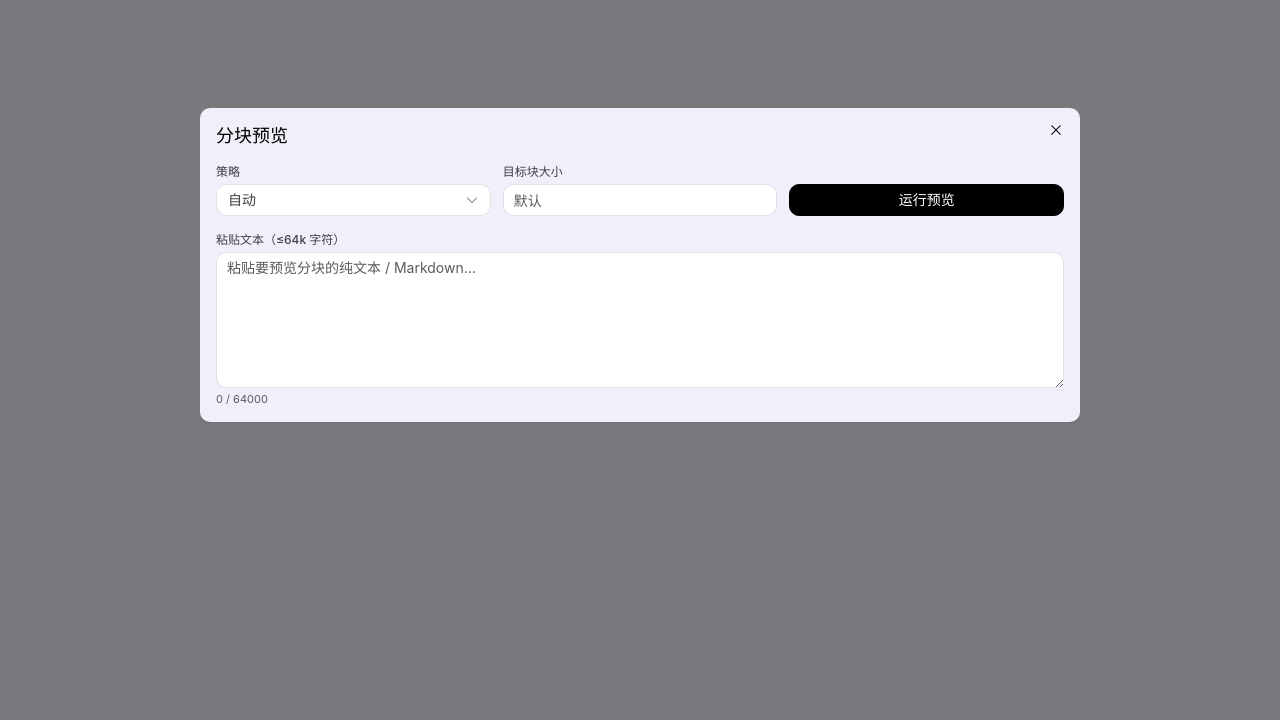
Test: ChunkPreviewDialog › 空文本不请求接口并提示
Click the button "运行预览" at (927, 200), box [789, 184, 1064, 216]
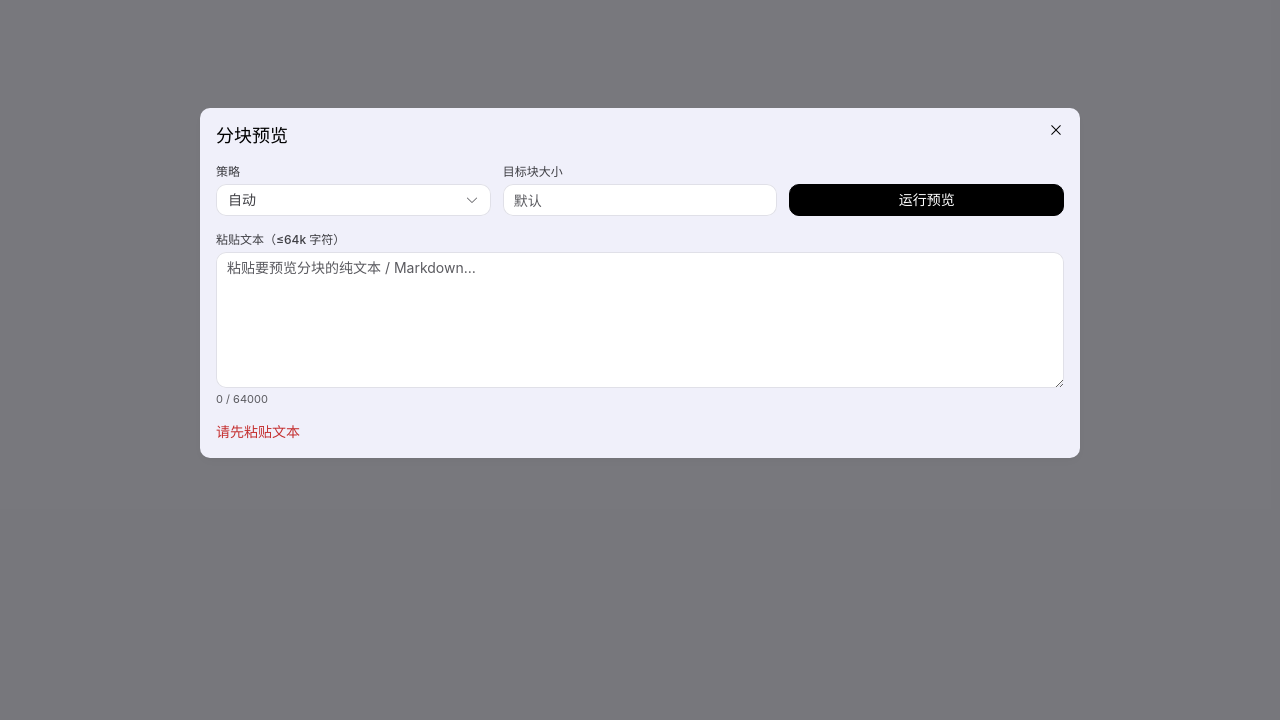
Result: the text "请先粘贴文本" is shown at [216, 423, 300, 440]
